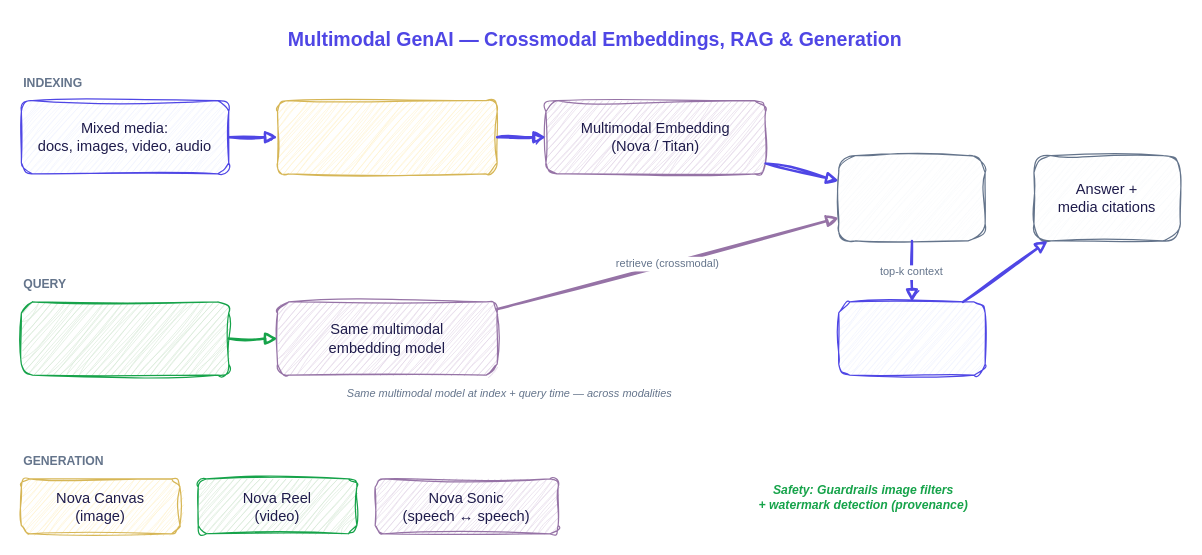
Image size: 1202x555. Some labels were removed from this diagram. The box of each missing label's shape, as (x1, y1, x2, y2) in pixels:
Bedrock Data Automation / FM parser: (276, 99, 497, 174)
FM (grounded): (838, 301, 985, 375)
Query (text OR image): (20, 301, 229, 375)
Vector Store: (838, 154, 985, 241)
